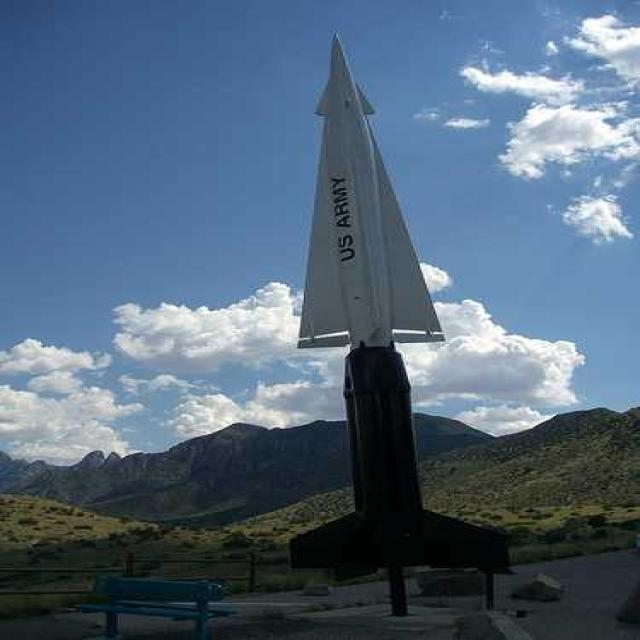missile: (287, 26, 451, 355)
